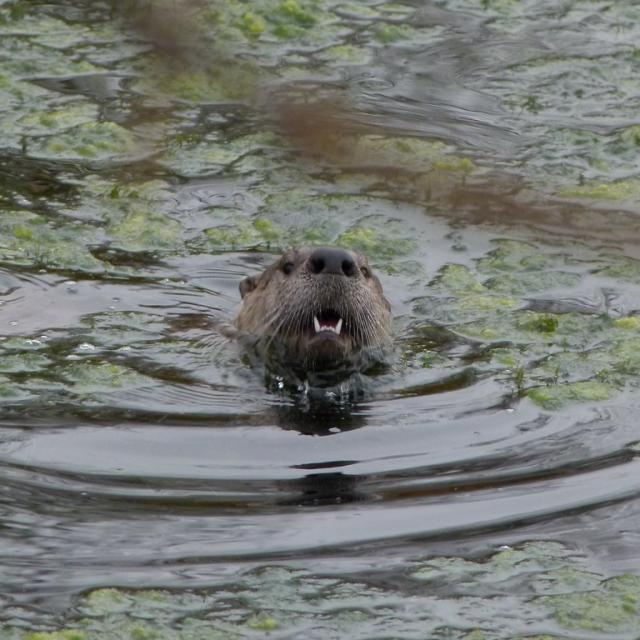otter: (240, 246, 394, 364)
